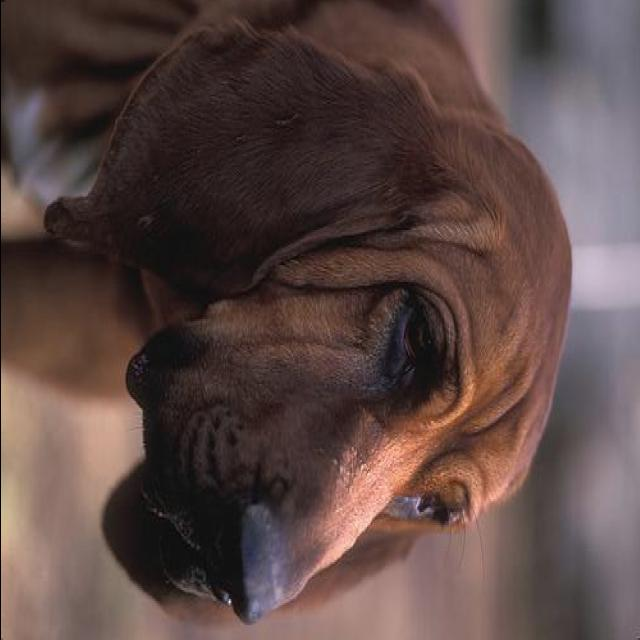bloodhound: (2, 4, 574, 629)
